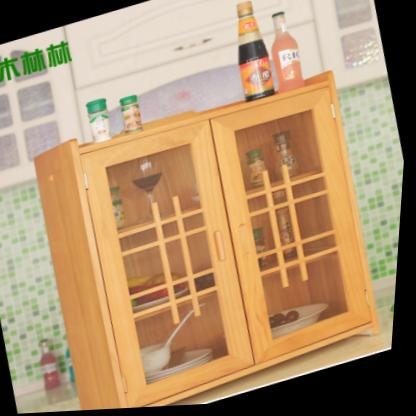Cupboard: (20, 61, 406, 414)
